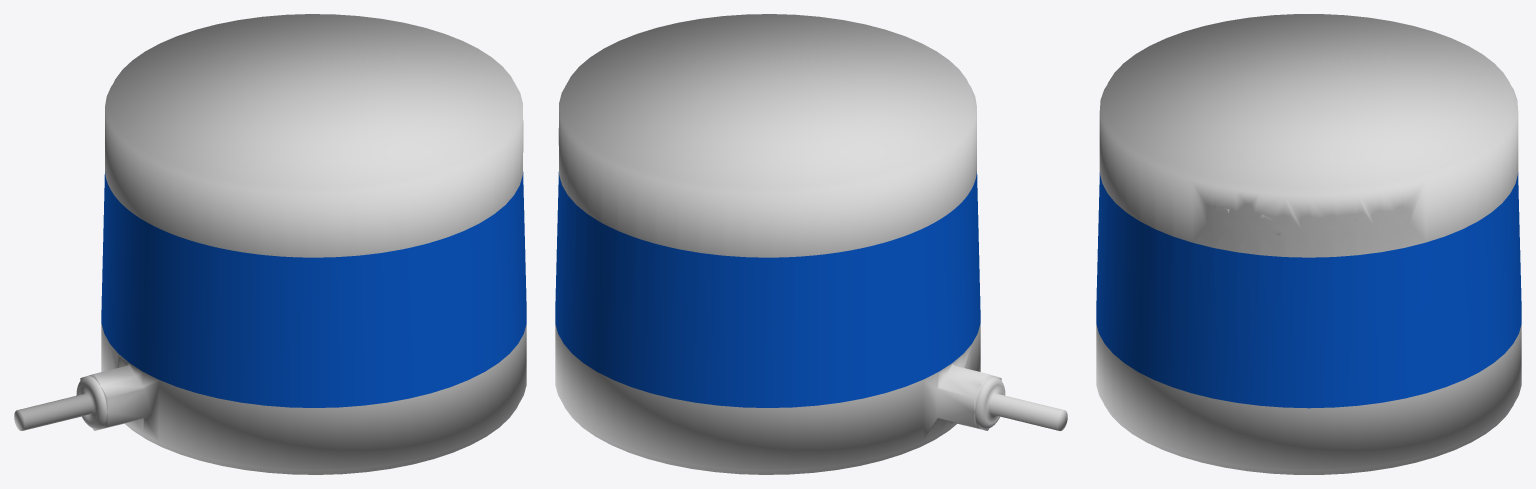
The model's file is rslidar.dae.
3 views of the same model, side by side, from view 1: azimuth 30°, elevation 25°; view 2: azimuth 150°, elevation 25°; view 3: azimuth 270°, elevation 25° (orthographic).
Visible parts, largest first — view 1: rslidar; view 2: rslidar; view 3: rslidar.
Boxes of the visible parts, left/top/right/bottom form: rslidar: left=14, top=14, right=526, bottom=474; rslidar: left=555, top=14, right=1067, bottom=474; rslidar: left=1096, top=14, right=1521, bottom=474.
Bounding box in the file's own units: 0.1387 × 0.1067 × 0.0791.
